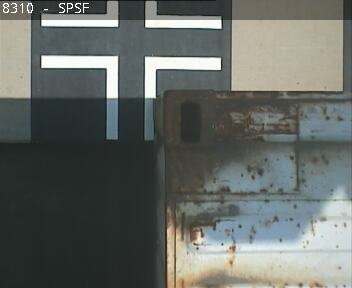groundmarker_1: (41, 54, 220, 144)
